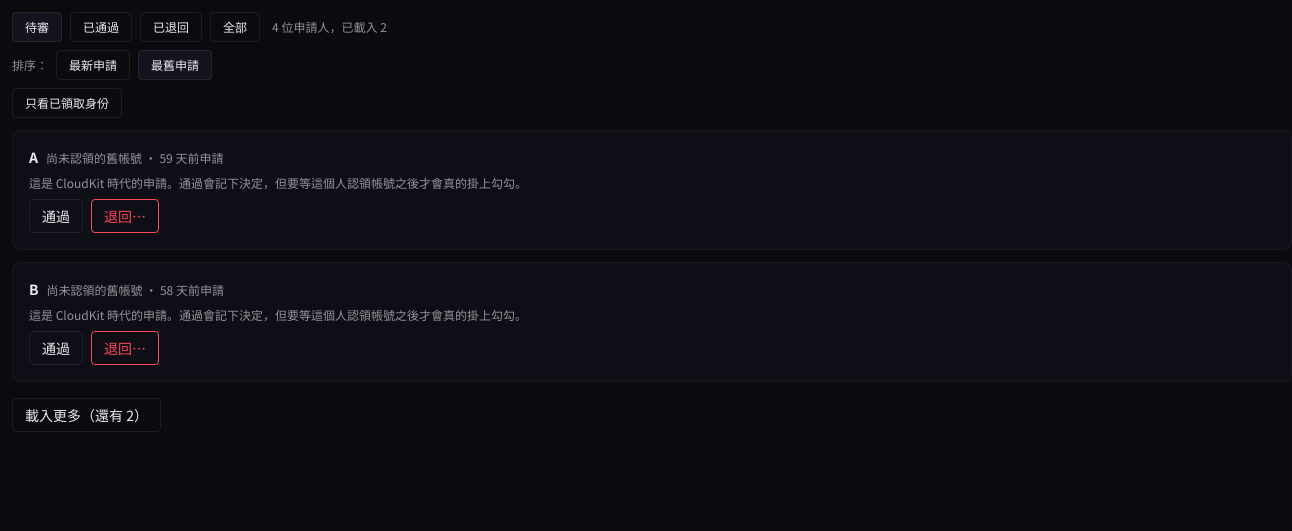
Test case: BadgesTab paging › keeps the total right when the review answers before the next page
This screenshot has width=1292, height=531.
Click the button "最新申請".
click(93, 65)  # box [56, 50, 130, 80]
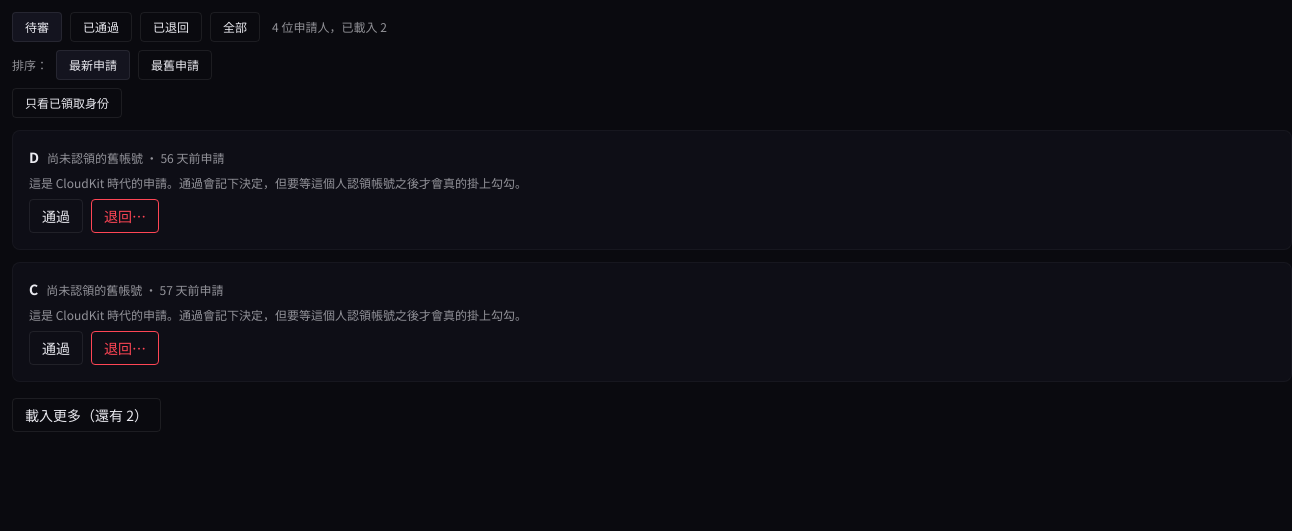
Click the button "通過" below "56 天前".
click(56, 216)  # box [29, 199, 83, 233]
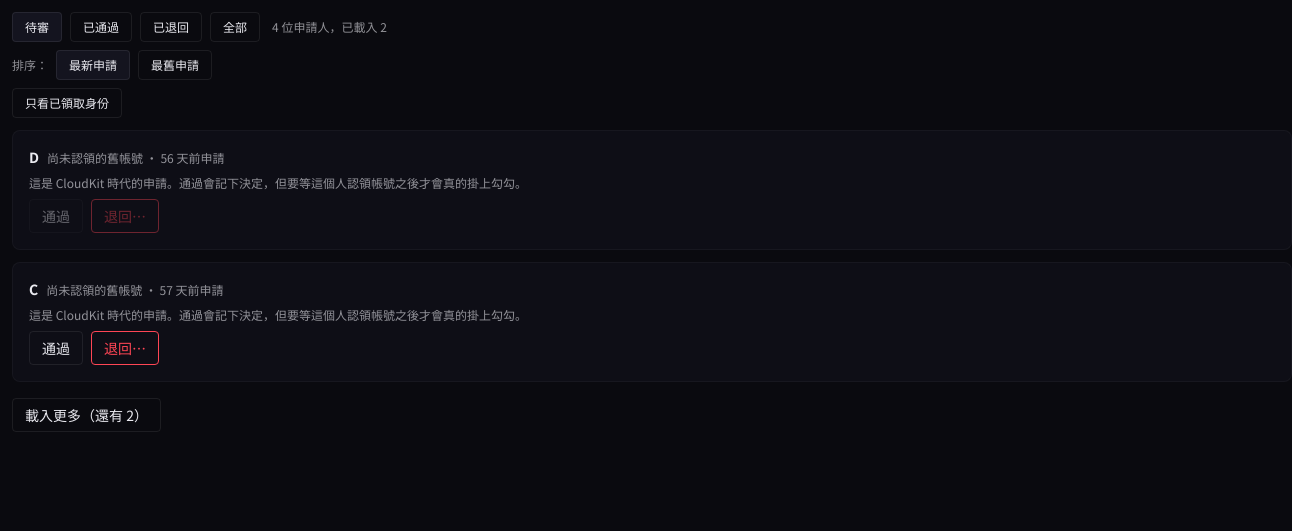
Click the button "載入更多（還有 2）".
click(86, 415)  # box [12, 398, 161, 432]
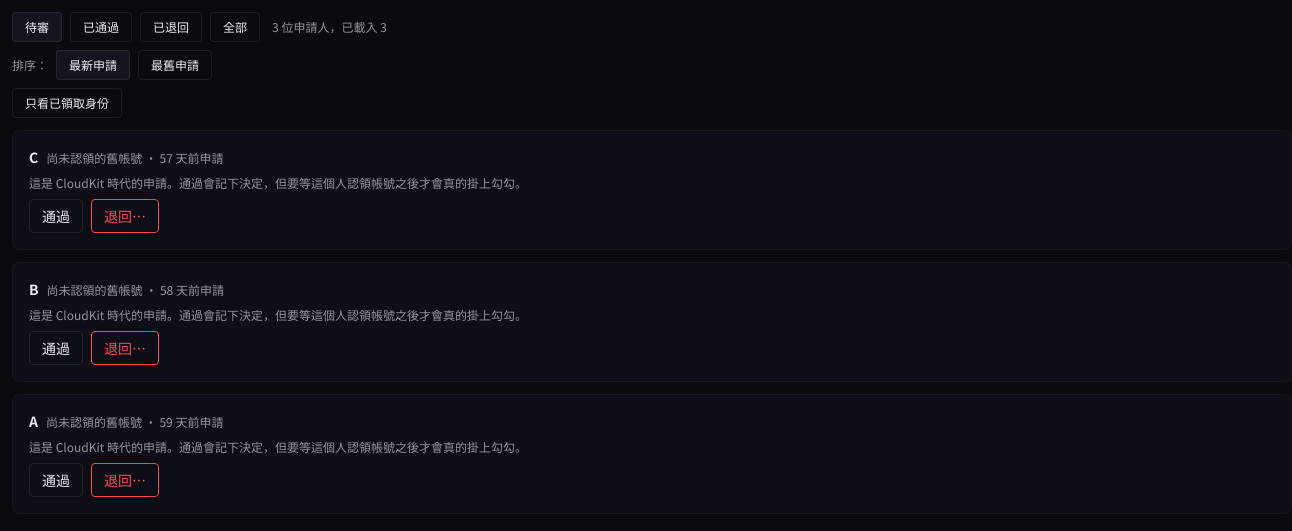
Result: the text "3 位申請人，已載入 3" is shown at [272, 19, 387, 35]
Result: the button "載入更多" is gone
